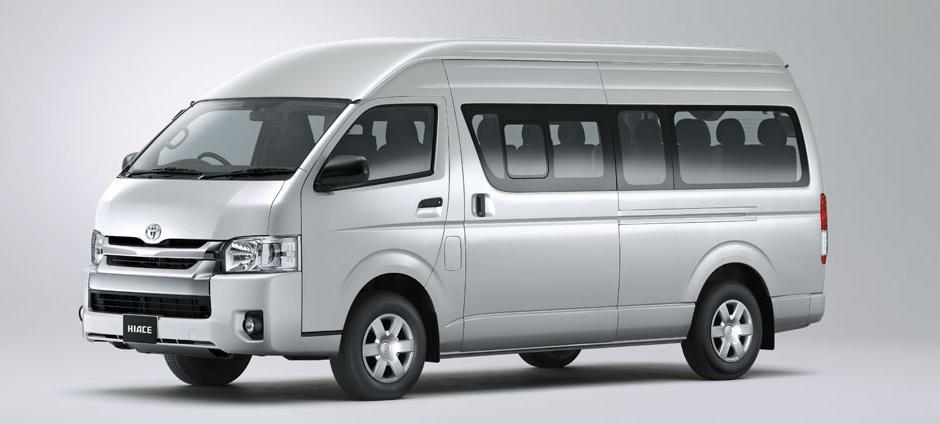car: (86, 33, 830, 408)
